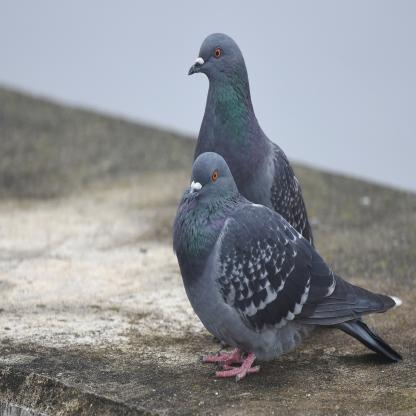Rock Pigeon: (175, 153, 405, 368), (186, 30, 293, 153)
